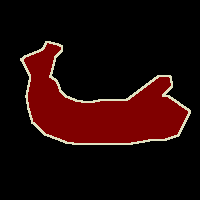tie: (21, 42, 190, 144)
